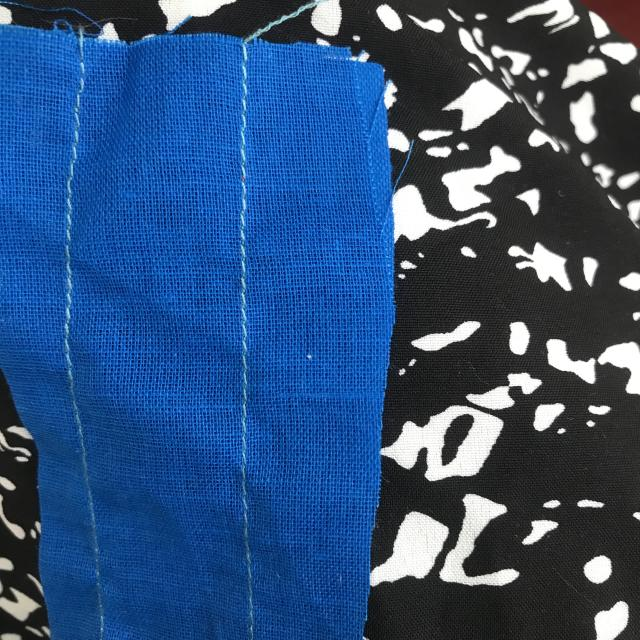good: (232, 169, 273, 399), (62, 158, 87, 258)
